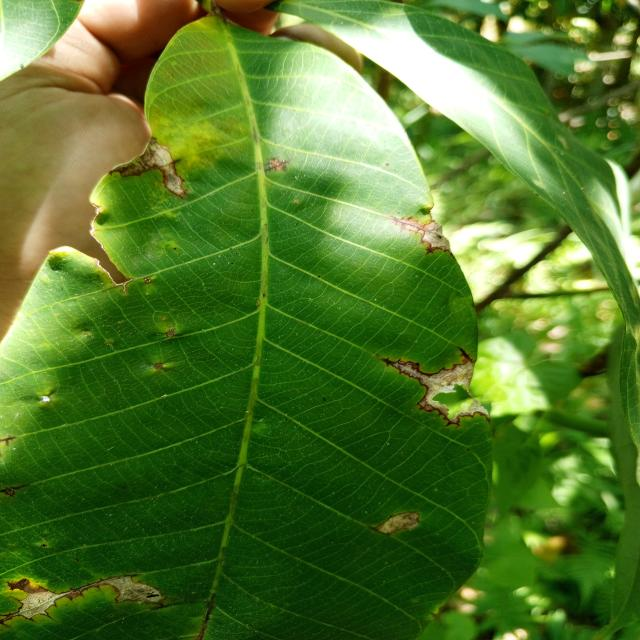Corynespora: (0, 574, 137, 626), (388, 215, 458, 259), (382, 357, 431, 386), (196, 592, 217, 640), (0, 483, 32, 498), (264, 159, 290, 173), (458, 346, 474, 364)
Leaf-Blight: (110, 136, 187, 198), (425, 364, 487, 419), (107, 577, 163, 604), (19, 591, 69, 618), (375, 511, 420, 534), (423, 222, 451, 251)
